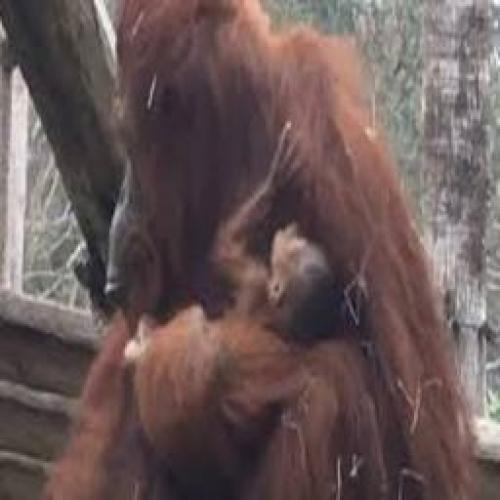orangutan-endangered: (90, 0, 469, 500), (113, 180, 355, 410)
